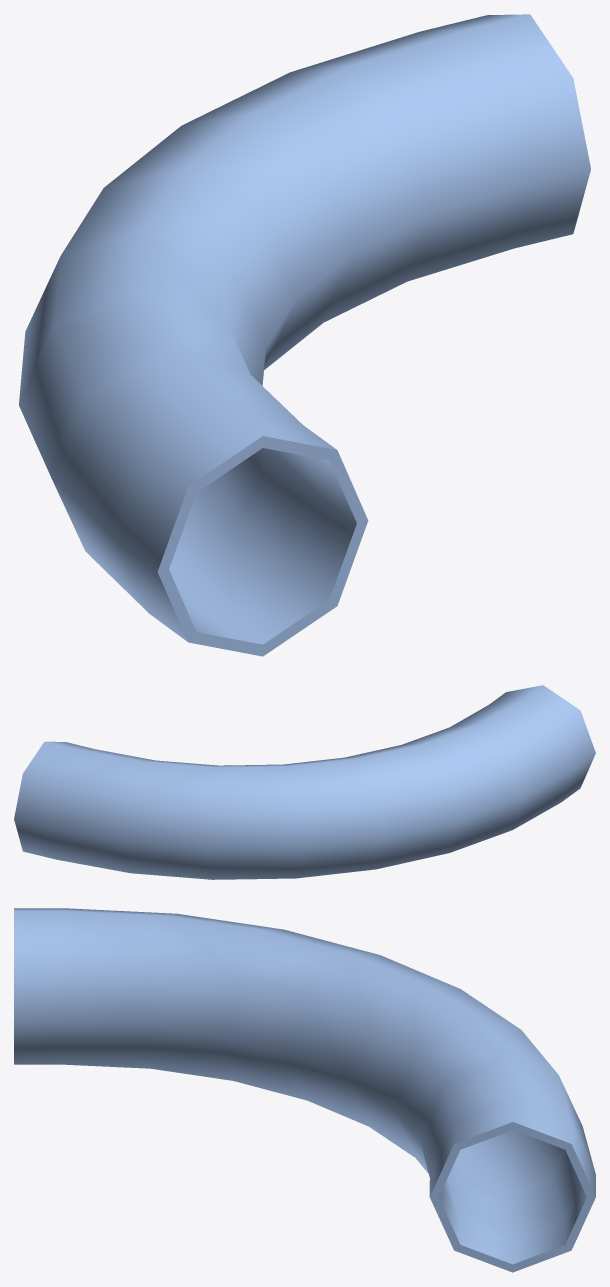
Rendered from PipeSmall_Hollow_Bent_03.fbx.
3 views of the same model, one above another, from view 1: azimuth 30°, elevation 25°; view 2: azimuth 150°, elevation 25°; view 3: azimuth 270°, elevation 25° (orthographic). The views are drawn at different scales.
Visible parts, largest first — view 1: PipeSmall_Hollow_Bent_03.001; view 2: PipeSmall_Hollow_Bent_03.001; view 3: PipeSmall_Hollow_Bent_03.001.
Part boxes in pixels (bbox=[...]): PipeSmall_Hollow_Bent_03.001: bbox=[19, 14, 590, 656]; PipeSmall_Hollow_Bent_03.001: bbox=[14, 685, 595, 879]; PipeSmall_Hollow_Bent_03.001: bbox=[14, 908, 595, 1272].
Bounding box in the file's own units: 0.35 × 0.1 × 0.35.
